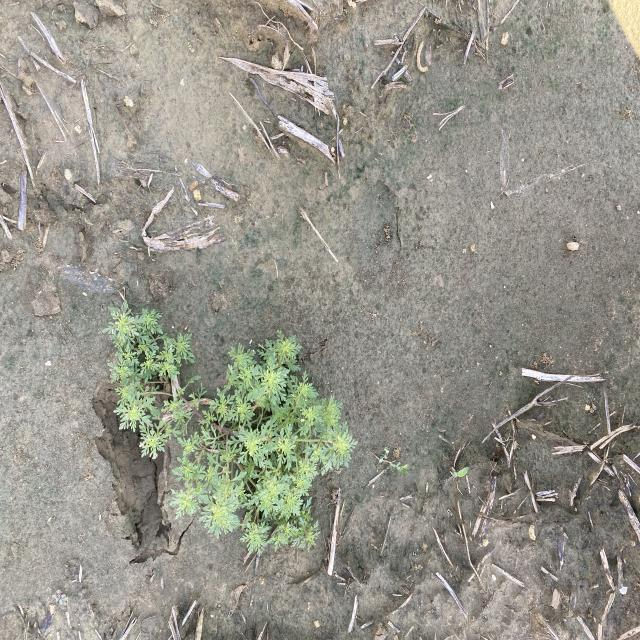Ragweed: (101, 298, 360, 560)
